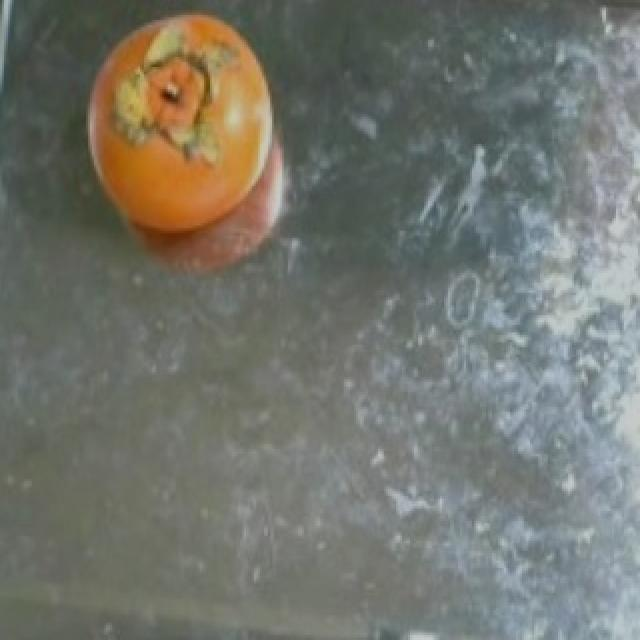Fruit: (60, 8, 310, 302)
